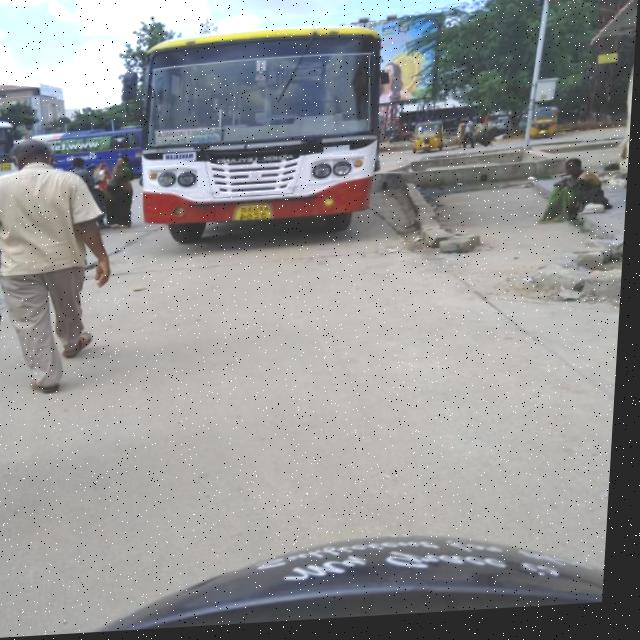plate: (235, 204, 278, 225)
